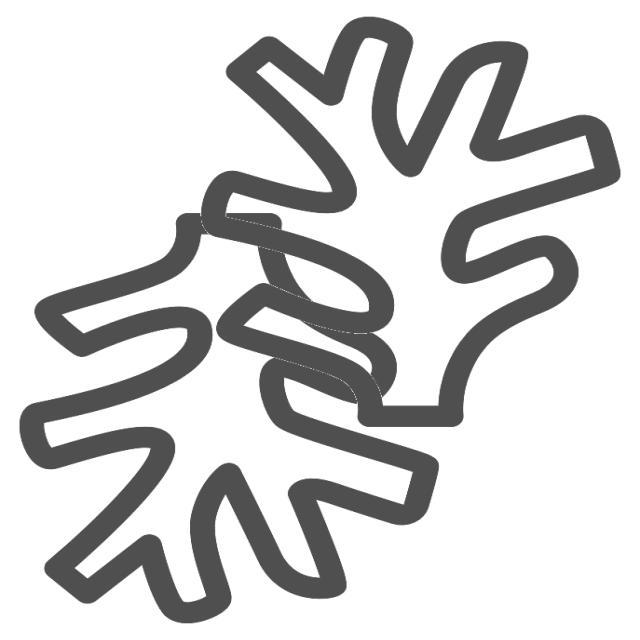coral: (14, 198, 450, 627), (193, 9, 634, 433)
